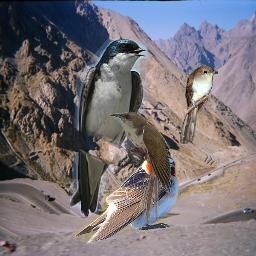Cuckoo: (110, 111, 171, 222), (180, 65, 218, 144)
Swallow: (70, 39, 148, 217), (74, 153, 179, 246)
